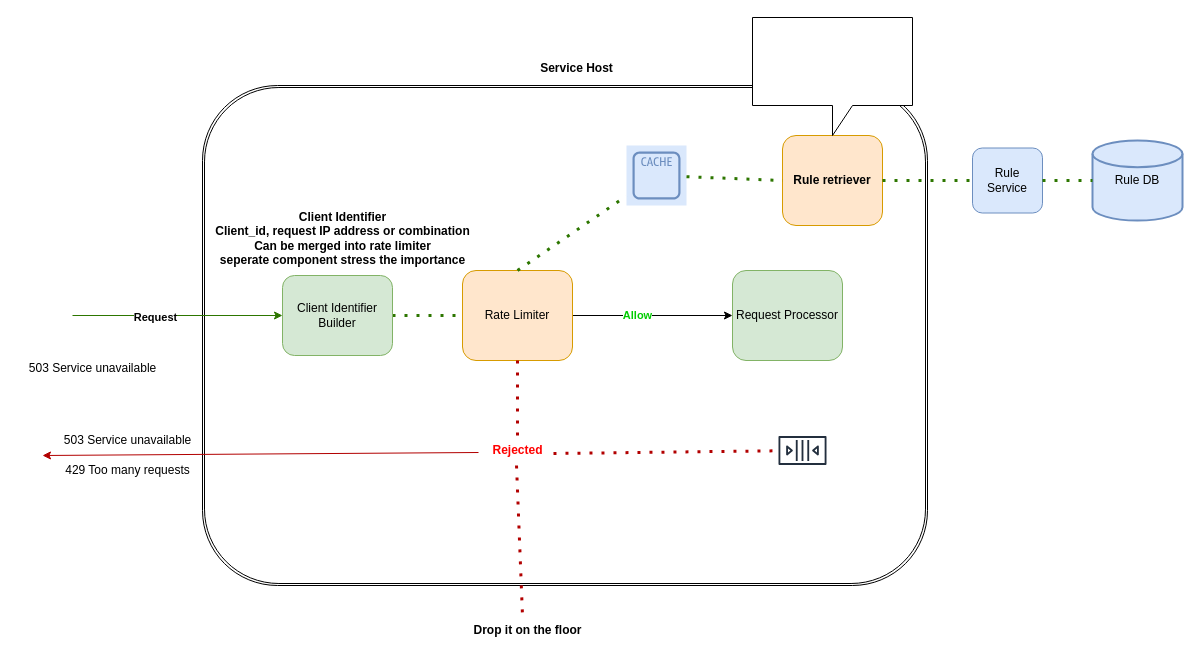
Some shapes in this 1200 by 663 pixel diagram are drawn without their labels. Here are the shapes that lost their labels. From the top down, the box of each, then its label:
(752, 16, 912, 136): Retrieve rules periodically new rules or modified rules
(626, 144, 686, 206): Throttle Rules cache
(772, 420, 832, 480): Queue
